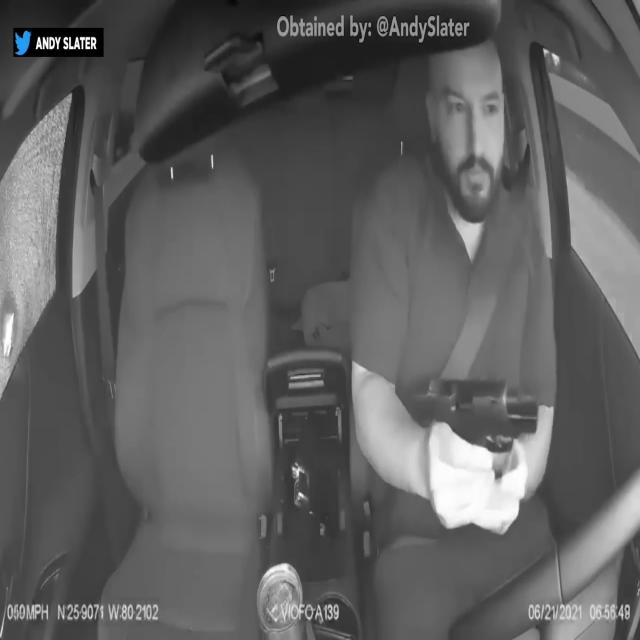senjata_api: (412, 381, 542, 451)
